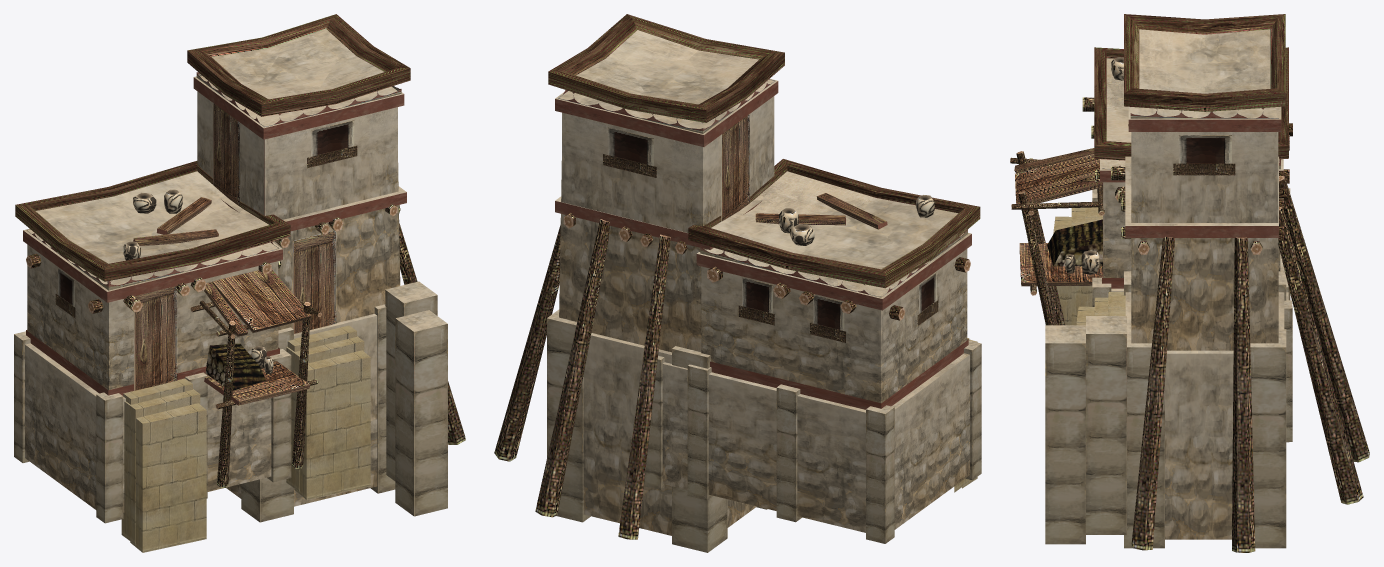
The model's file is mino_storehouse.dae.
3 views of the same model, side by side, from view 1: azimuth 30°, elevation 25°; view 2: azimuth 150°, elevation 25°; view 3: azimuth 270°, elevation 25° (orthographic). The views are drawn at different scales.
Visible parts, largest first — view 1: Cube_003; view 2: Cube_003; view 3: Cube_003.
Part boxes in pixels (x1,y1,x2,y2): Cube_003: (14, 14, 465, 552); Cube_003: (494, 14, 981, 552); Cube_003: (1010, 14, 1369, 552).
Bounding box in the file's own units: 20.58 × 15.16 × 21.13.
